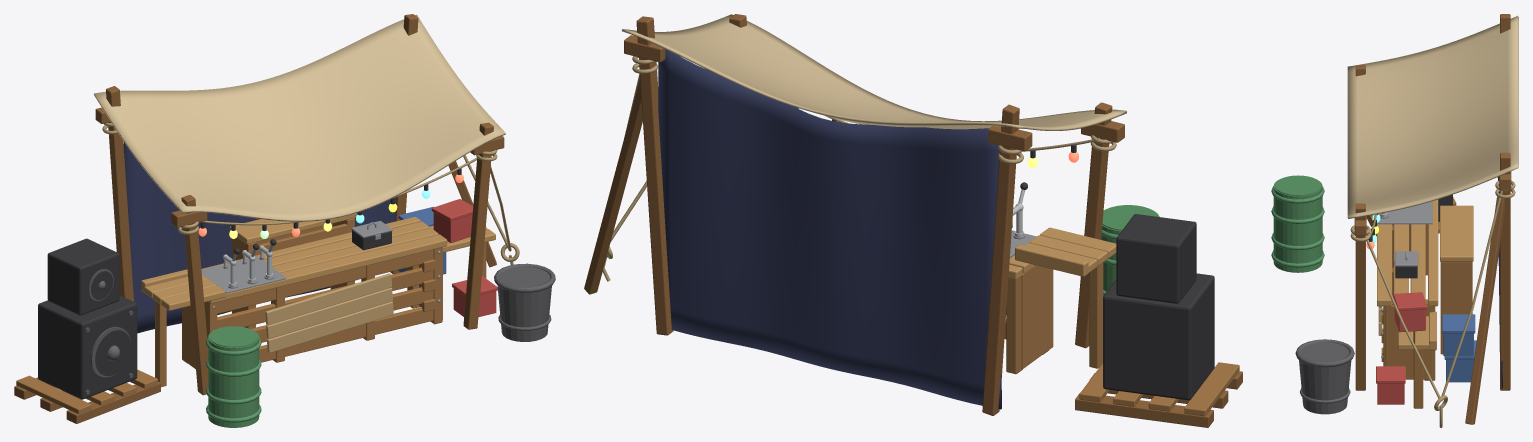
File: BAR1 1.fbx
3 renders of one model, left to right at view 1: azimuth 30°, elevation 25°; view 2: azimuth 150°, elevation 25°; view 3: azimuth 270°, elevation 25°, orthographic. The views are drawn at different scales.
Parts seen in each view (by area): view 1: Tarp, BackCurtain, SpeakerBig, SignBoard, SpeakerSmall, Barrel, BinBody, BarTop0, Post_1_-1, Post_-1_1, BarSlat0.92, Post_-1_-1 (+23 smaller); view 2: BackCurtain, Tarp, SpeakerBig, SpeakerSmall, Post_-1_1, Post_1_1, BarSide-1, BraceR, Post_-1_-1, PalletLeg0.36, BarPostB-1.55, SideLegL (+8 smaller); view 3: Tarp, Barrel, BinBody, BraceR, Post_1_1, BackConsoleTop, BackConsoleLeg0.76, Post_1_-1, BarSide1, CrateBlue, BarTop0, CrateRed2 (+20 smaller).
Boxes of the visible parts, x1=… form: Tarp: x1=94, y1=14, x2=505, y2=221; BackCurtain: x1=123, y1=141, x2=396, y2=333; SpeakerBig: x1=38, y1=295, x2=137, y2=399; SignBoard: x1=265, y1=273, x2=393, y2=352; SpeakerSmall: x1=47, y1=238, x2=119, y2=315; Barrel: x1=208, y1=331, x2=259, y2=427; BinBody: x1=497, y1=267, x2=551, y2=341; BarTop0: x1=208, y1=234, x2=447, y2=303; Post_1_-1: x1=463, y1=122, x2=493, y2=329; Post_-1_1: x1=106, y1=86, x2=133, y2=301; BarSlat0.92: x1=217, y1=249, x2=433, y2=313; Post_-1_-1: x1=181, y1=195, x2=208, y2=395; BackCurtain: x1=658, y1=49, x2=1001, y2=409; Tarp: x1=622, y1=14, x2=1126, y2=130; SpeakerBig: x1=1103, y1=273, x2=1214, y2=400; SpeakerSmall: x1=1116, y1=214, x2=1196, y2=303; Post_-1_1: x1=982, y1=104, x2=1019, y2=415; Post_1_1: x1=636, y1=16, x2=673, y2=335; BarSide-1: x1=1021, y1=265, x2=1053, y2=368; BraceR: x1=584, y1=79, x2=642, y2=294; Post_-1_-1: x1=1075, y1=102, x2=1112, y2=348; PalletLeg0.36: x1=1075, y1=392, x2=1213, y2=427; BarPostB-1.55: x1=1006, y1=276, x2=1022, y2=374; SideLegL: x1=1089, y1=263, x2=1103, y2=368; Tarp: x1=1347, y1=15, x2=1518, y2=218; Barrel: x1=1273, y1=180, x2=1322, y2=272; BinBody: x1=1299, y1=342, x2=1351, y2=414; BraceR: x1=1465, y1=196, x2=1504, y2=424; Post_1_1: x1=1500, y1=152, x2=1510, y2=390; BackConsoleTop: x1=1440, y1=205, x2=1473, y2=261; BackConsoleLeg0.76: x1=1440, y1=262, x2=1472, y2=354; Post_1_-1: x1=1355, y1=203, x2=1365, y2=390; BarSide1: x1=1385, y1=305, x2=1432, y2=379; CrateBlue: x1=1442, y1=314, x2=1475, y2=356; BarTop0: x1=1377, y1=224, x2=1391, y2=306; CrateRed2: x1=1393, y1=292, x2=1427, y2=332.
Bounding box in the file's own units: 689 × 335 × 308.
